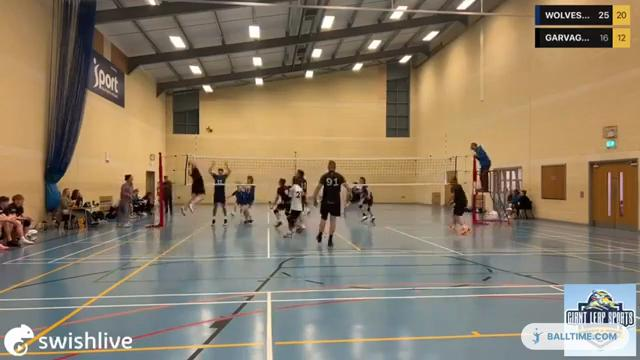Attack: (172, 158, 208, 217)
Player: (313, 160, 349, 246), (209, 162, 230, 224), (450, 177, 469, 234), (285, 177, 303, 236), (272, 178, 290, 227), (358, 177, 375, 224), (295, 169, 309, 214), (243, 175, 254, 223), (227, 181, 242, 216)
ball: (206, 126, 212, 132)
